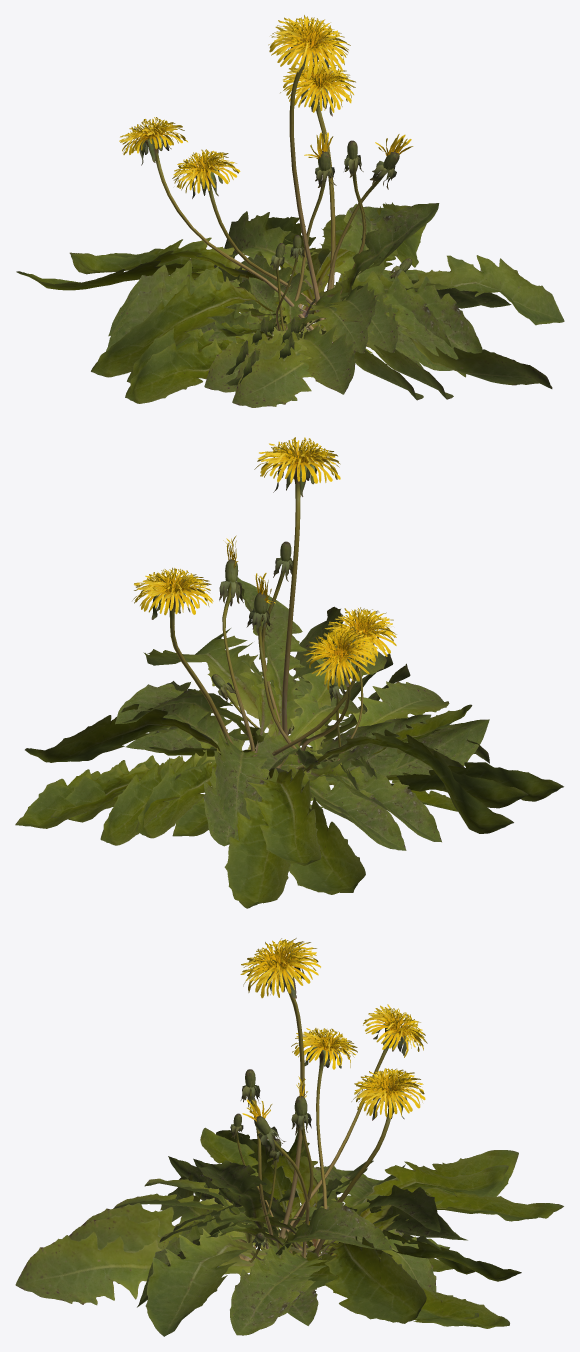
File: dandelion.glb
3 renders of one model, top to bottom at view 1: azimuth 30°, elevation 25°; view 2: azimuth 150°, elevation 25°; view 3: azimuth 270°, elevation 25°, orthographic. The views are drawn at different scales.
Parts seen in each view (by area): view 1: dandelion_01_a_LOD0, dandelion_01_b_LOD0, dandelion_01_e_LOD0, dandelion_01_c_LOD0, dandelion_01_d_LOD0; view 2: dandelion_01_a_LOD0, dandelion_01_b_LOD0, dandelion_01_e_LOD0, dandelion_01_c_LOD0, dandelion_01_d_LOD0; view 3: dandelion_01_a_LOD0, dandelion_01_b_LOD0, dandelion_01_e_LOD0, dandelion_01_c_LOD0, dandelion_01_d_LOD0.
Part boxes in pixels (x1,y1,x2,y2): dandelion_01_a_LOD0: (70,15,564,407); dandelion_01_b_LOD0: (16,61,511,399); dandelion_01_e_LOD0: (70,202,480,400); dandelion_01_c_LOD0: (194,132,356,394); dandelion_01_d_LOD0: (198,243,423,385); dandelion_01_a_LOD0: (51,437,563,908); dandelion_01_b_LOD0: (15,535,528,894); dandelion_01_e_LOD0: (25,663,513,865); dandelion_01_c_LOD0: (126,573,470,840); dandelion_01_d_LOD0: (149,672,489,808); dandelion_01_a_LOD0: (15,938,563,1336); dandelion_01_b_LOD0: (69,1028,521,1335); dandelion_01_e_LOD0: (81,1129,508,1323); dandelion_01_c_LOD0: (113,1076,467,1325); dandelion_01_d_LOD0: (157,1127,437,1289).
Bounding box in the file's own units: 0.3966 × 0.3063 × 0.4638.
1 material, 1 textured.
